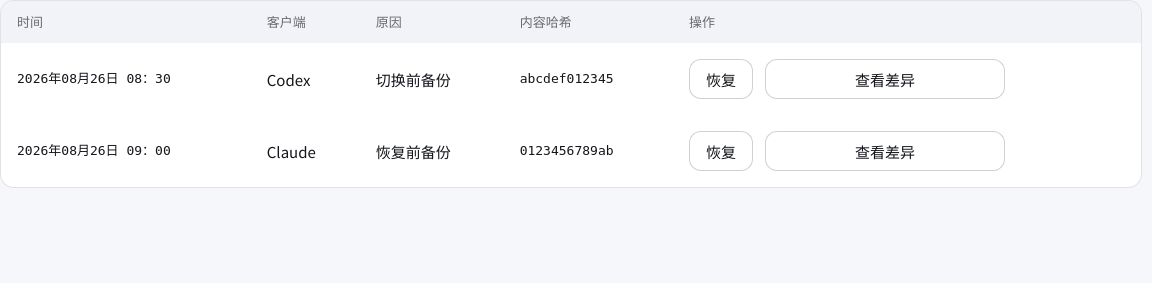
BackupHistory › shows the owned-key difference between a backup and the live file
Click the button "查看差异" in the row of "2026年08月26日 08：30": (885, 79) x1=765 y1=59 x2=1005 y2=99
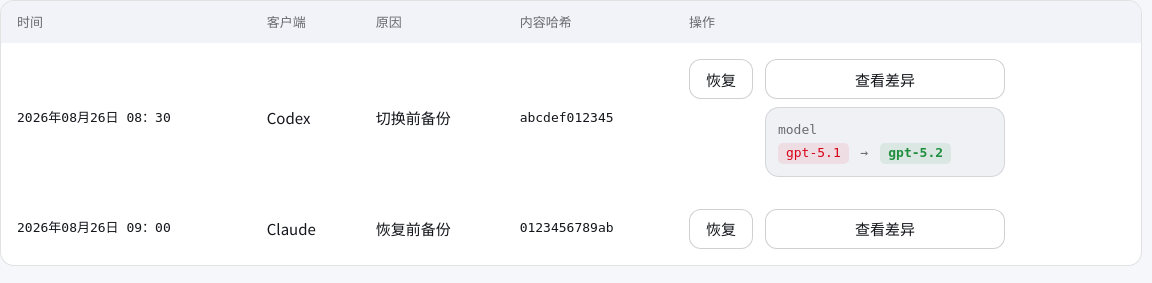
Expected: the text "gpt-5.1" is shown, x1=778 y1=143 x2=849 y2=164
Expected: the text "gpt-5.2" is shown, x1=880 y1=143 x2=951 y2=164
